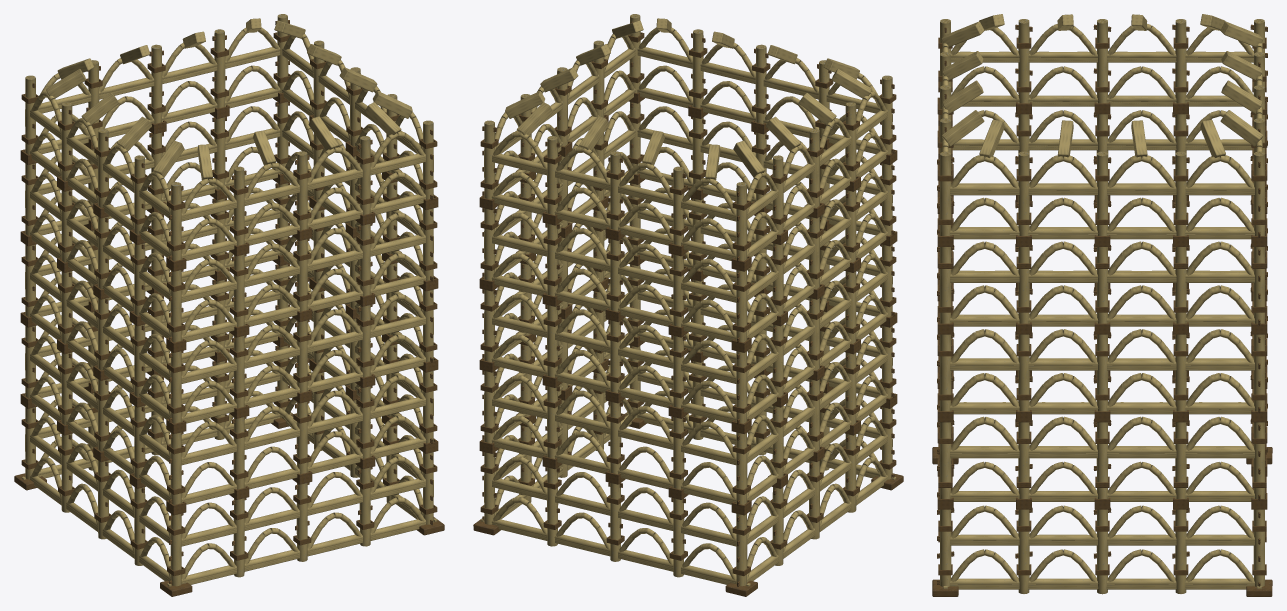
3 views of the same model, side by side, from view 1: azimuth 30°, elevation 25°; view 2: azimuth 150°, elevation 25°; view 3: azimuth 270°, elevation 25° (orthographic). The views are drawn at different scales.
Parts seen in each view (by area): view 1: Tier 4 side 0 post 0, Tier 4 side 2 post 1, Tier 4 side 2 post 2, Tier 4 side 0 post 1, Tier 4 side 0 post 2, Tier 4 side 0 post 3, Tier 0 side 0 post 1, Tier 0 side 0 post 2, Tier 0 side 0 post 3, Tier 1 side 0 post 0, Tier 0 side 0 post 0, Tier 2 side 0 post 0 (+29 smaller); view 2: Tier 4 side 3 post 0, Tier 4 side 0 post 2, Tier 4 side 0 post 3, Tier 4 side 2 post 3, Tier 0 side 2 post 3, Tier 4 side 2 post 2, Tier 4 side 2 post 0, Tier 4 side 2 post 1, Tier 0 side 2 post 2, Tier 0 side 2 post 1, Tier 4 side 3 post 3, Tier 0 side 3 post 0 (+29 smaller); view 3: Tier 4 side 3 post 1, Tier 4 side 3 post 3, Tier 4 side 1 post 1, Tier 4 side 1 post 3, Tier 0 side 1 post 1, Tier 0 side 1 post 3, Tier 4 side 1 post 0, Tier 4 side 2 post 0, Tier 4 side 3 post 2, Tier 0 side 1 post 2, Tier 4 side 1 post 2, Tier 2 side 1 post 1 (+28 smaller).
Boxes of the visible parts, x1,y1,x2,y2 form: Tier 4 side 0 post 0: [170, 182, 181, 261]; Tier 4 side 2 post 1: [214, 29, 225, 108]; Tier 4 side 2 post 2: [151, 44, 162, 123]; Tier 4 side 0 post 1: [233, 166, 244, 245]; Tier 4 side 0 post 2: [296, 151, 307, 230]; Tier 4 side 0 post 3: [359, 136, 370, 215]; Tier 0 side 0 post 1: [233, 498, 244, 577]; Tier 0 side 0 post 2: [296, 483, 307, 561]; Tier 0 side 0 post 3: [359, 467, 370, 546]; Tier 1 side 0 post 0: [170, 432, 181, 504]; Tier 0 side 0 post 0: [170, 514, 181, 586]; Tier 2 side 0 post 0: [170, 351, 181, 423]; Tier 4 side 3 post 0: [736, 182, 747, 261]; Tier 4 side 0 post 2: [755, 44, 766, 123]; Tier 4 side 0 post 3: [692, 29, 703, 108]; Tier 4 side 2 post 3: [673, 166, 684, 245]; Tier 0 side 2 post 3: [673, 498, 684, 577]; Tier 4 side 2 post 2: [610, 151, 621, 230]; Tier 4 side 2 post 0: [484, 120, 494, 199]; Tier 4 side 2 post 1: [547, 136, 558, 215]; Tier 0 side 2 post 2: [610, 483, 621, 561]; Tier 0 side 2 post 1: [547, 467, 558, 546]; Tier 4 side 3 post 3: [845, 102, 856, 181]; Tier 0 side 3 post 0: [736, 513, 747, 586]; Tier 4 side 3 post 1: [1175, 19, 1186, 103]; Tier 4 side 3 post 3: [1018, 19, 1029, 103]; Tier 4 side 1 post 1: [1018, 151, 1029, 235]; Tier 4 side 1 post 3: [1175, 151, 1186, 235]; Tier 0 side 1 post 1: [1018, 509, 1029, 593]; Tier 0 side 1 post 3: [1175, 509, 1186, 593]; Tier 4 side 1 post 0: [940, 151, 951, 235]; Tier 4 side 2 post 0: [1253, 151, 1264, 235]; Tier 4 side 3 post 2: [1096, 19, 1108, 103]; Tier 0 side 1 post 2: [1096, 509, 1108, 594]; Tier 4 side 1 post 2: [1096, 151, 1108, 235]; Tier 2 side 1 post 1: [1018, 334, 1029, 411].
Size of the model in its own units: 1.95 by 2.9 by 1.95.
Materials: 2 (2 with a texture image).
